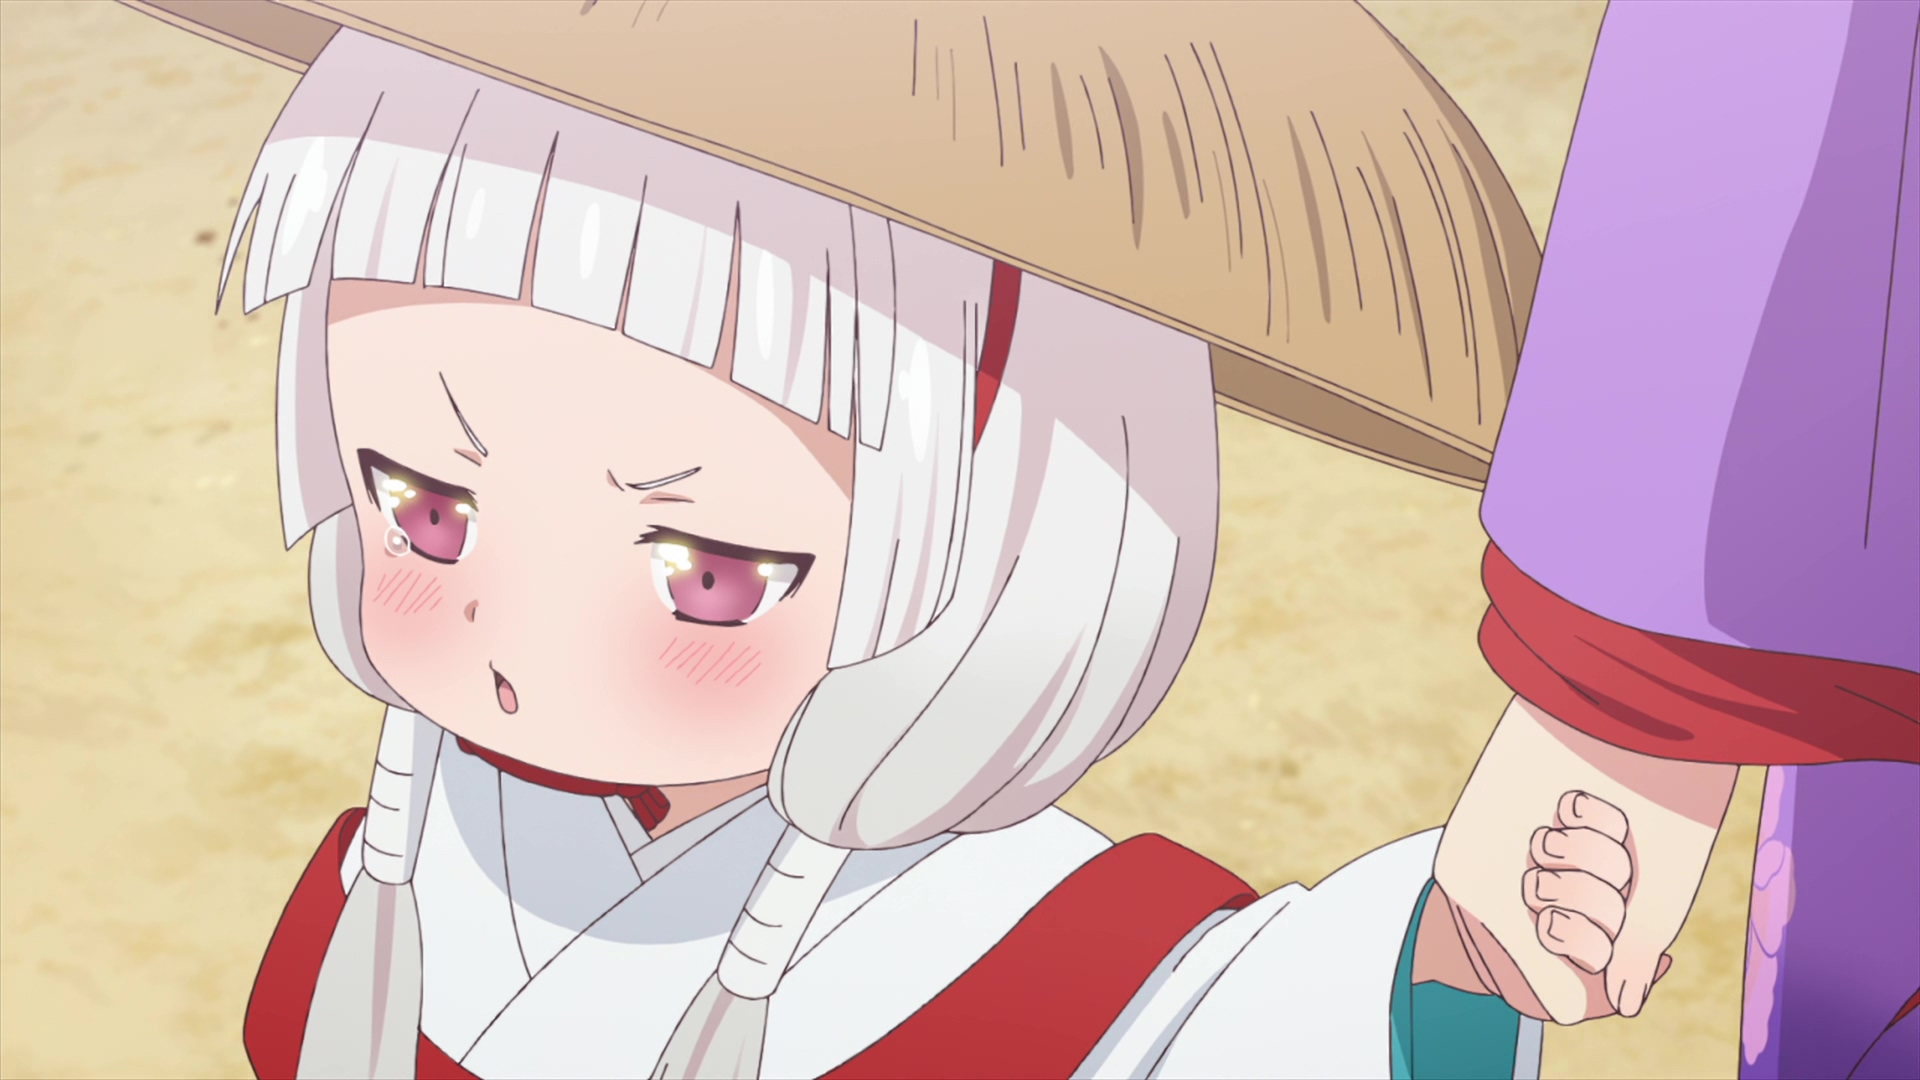其他: (119, 1, 1673, 1080)
